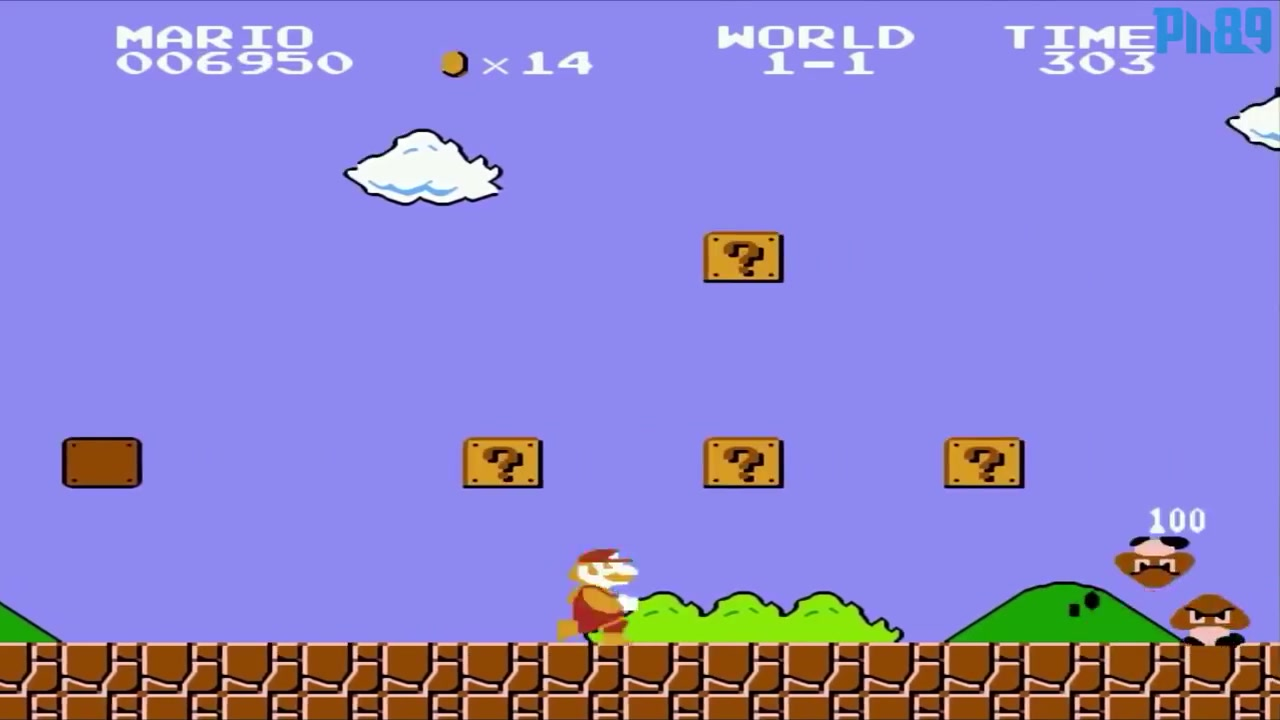mario: (550, 534, 641, 645)
